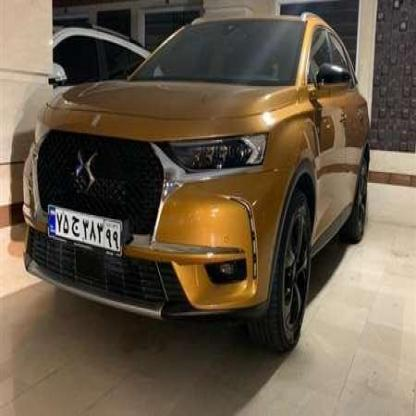Car: (22, 0, 368, 365), (27, 14, 154, 161)
